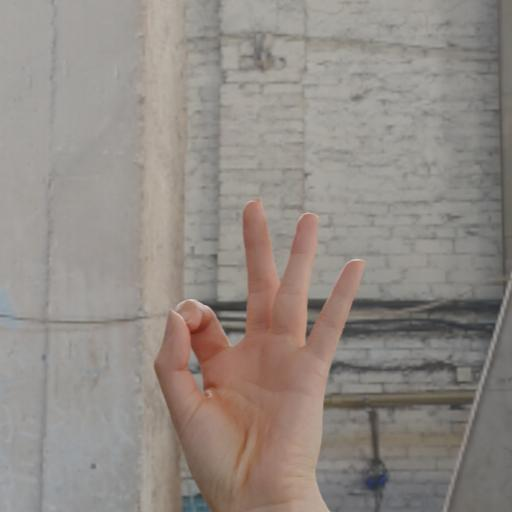F: (152, 198, 373, 492)
